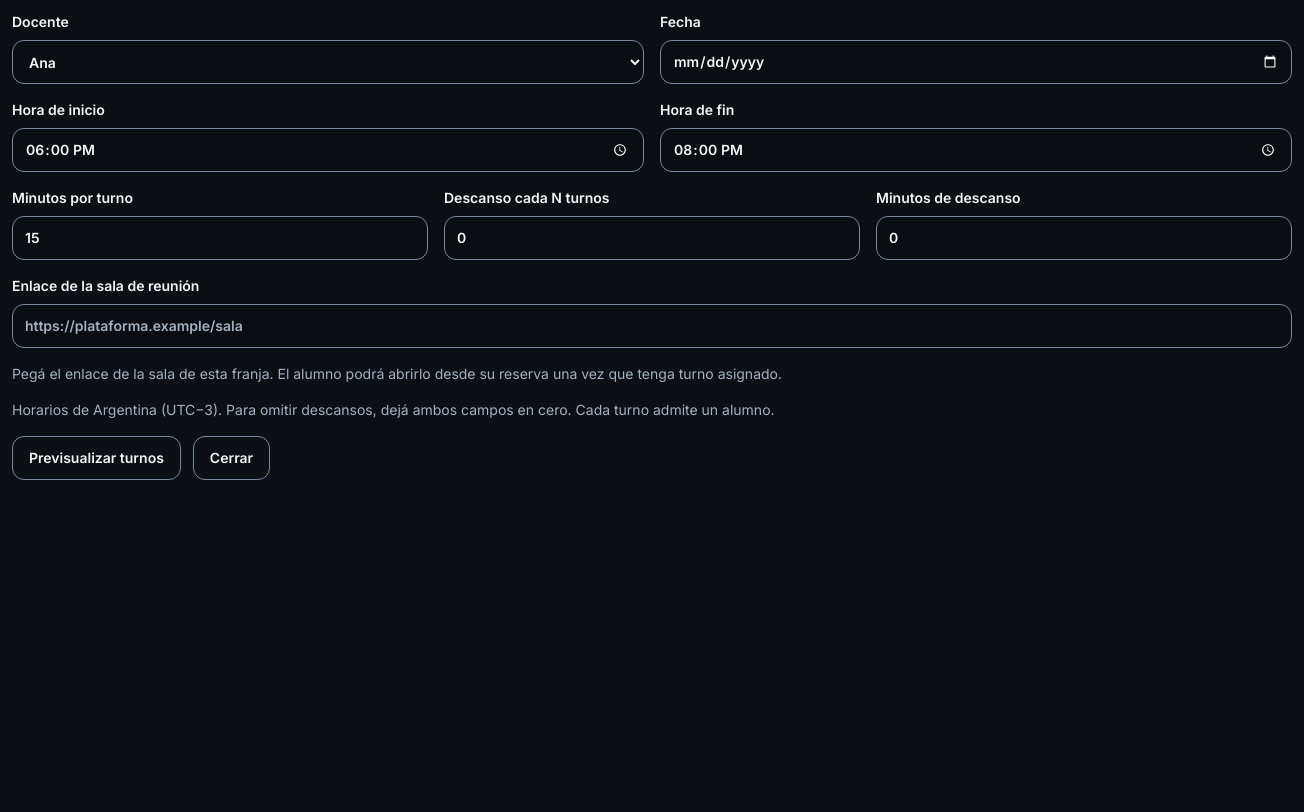
Test: formularios de revisiones › previsualiza descansos sin crear ni asignar alumnos y exige confirmar
The width and height of the screenshot is (1304, 812).
Type "2026-10-20" into the date field labelled "Fecha" at (976, 62), box [660,40,1292,84]
Replace the text in the time field labelled "Hora de fin" with "19:00" at (976, 150), box [660,128,1292,172]
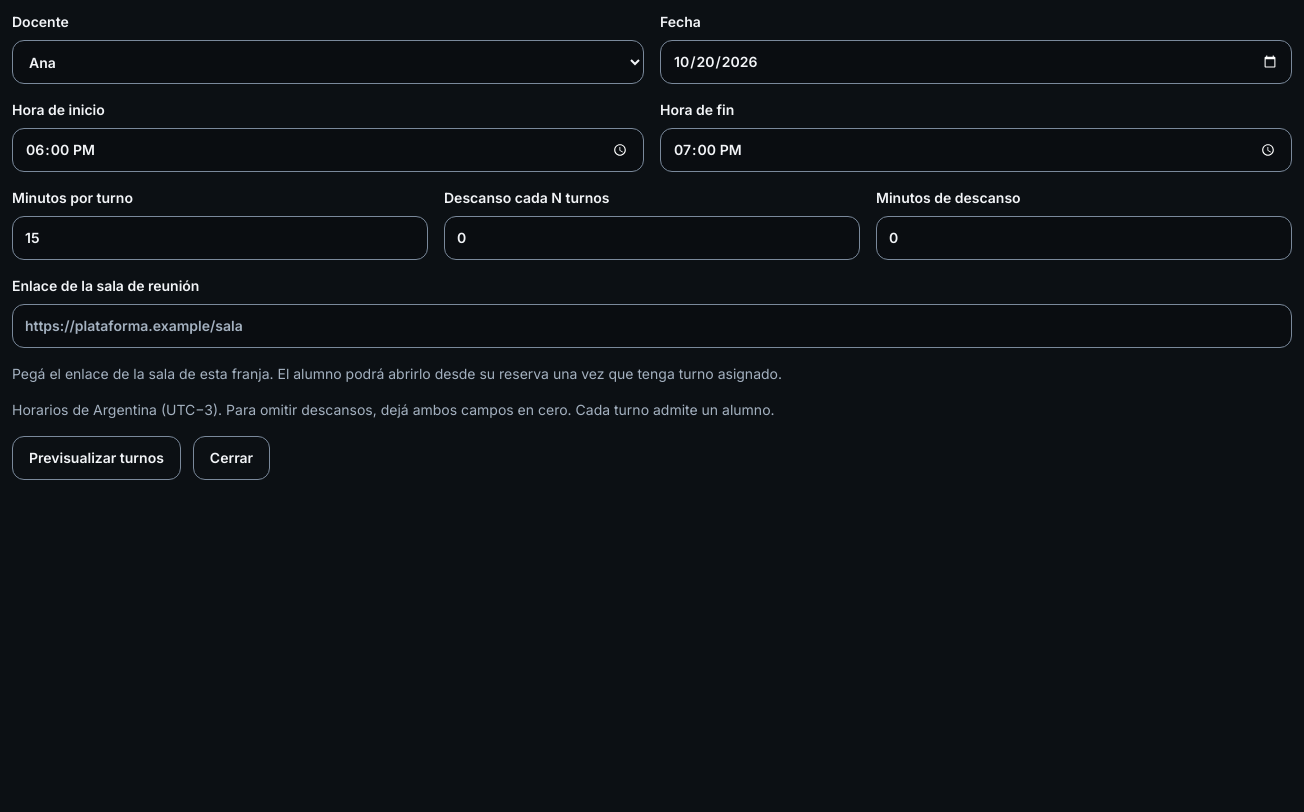
Replace the text in the number field labelled "Descanso cada N turnos" with "2" at (652, 238), box [444,216,860,260]
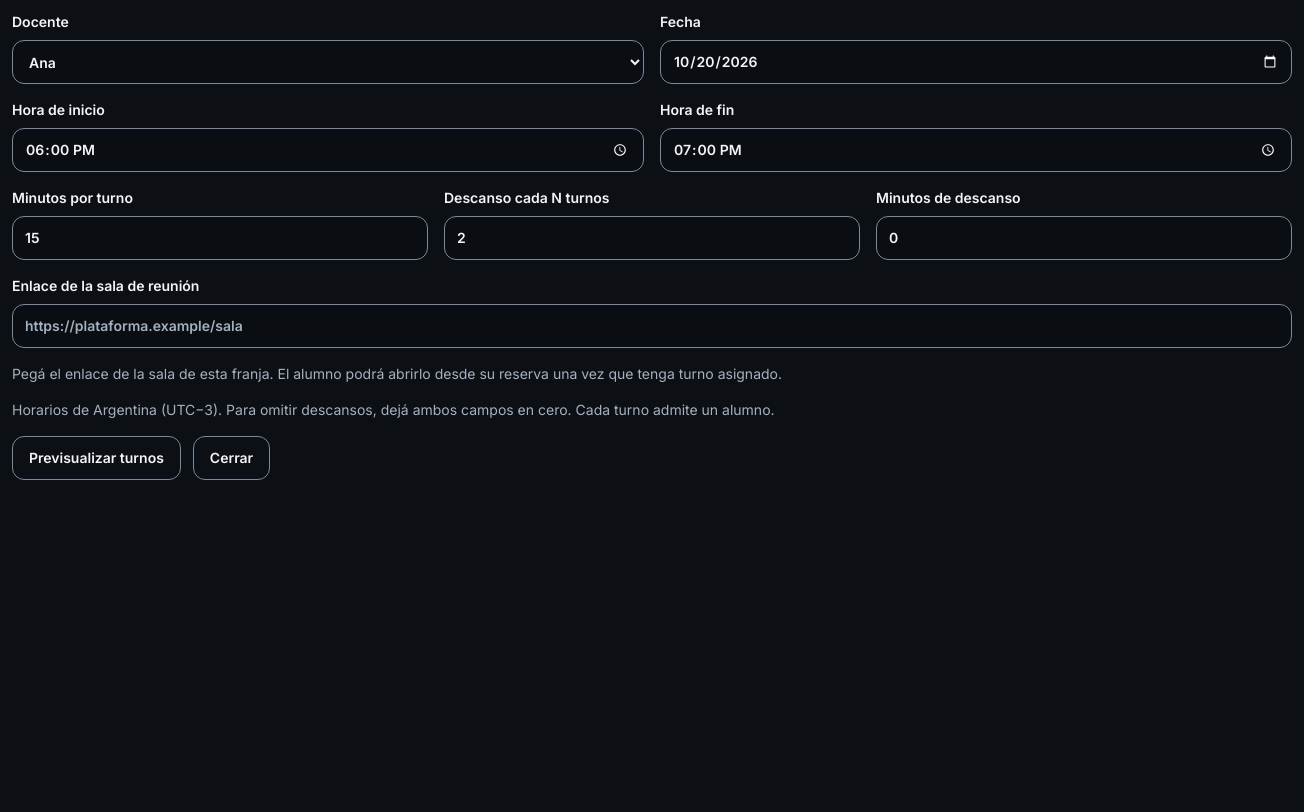
Replace the text in the number field labelled "Minutos de descanso" with "10" at (1084, 238), box [876,216,1292,260]
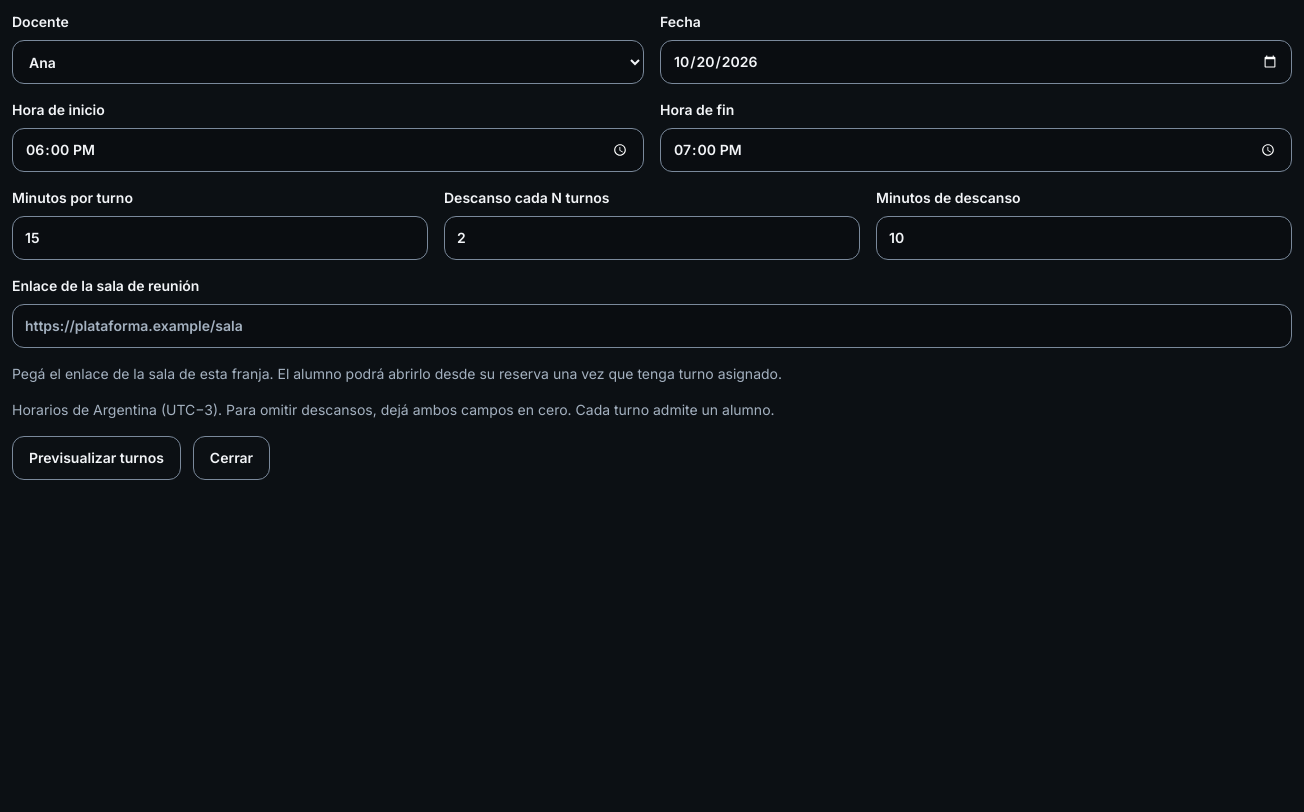
Type "https://meet.google.com/abc-defg-hij" into the field labelled "Enlace de la sala de reunión" at (652, 326), box [12,304,1292,348]
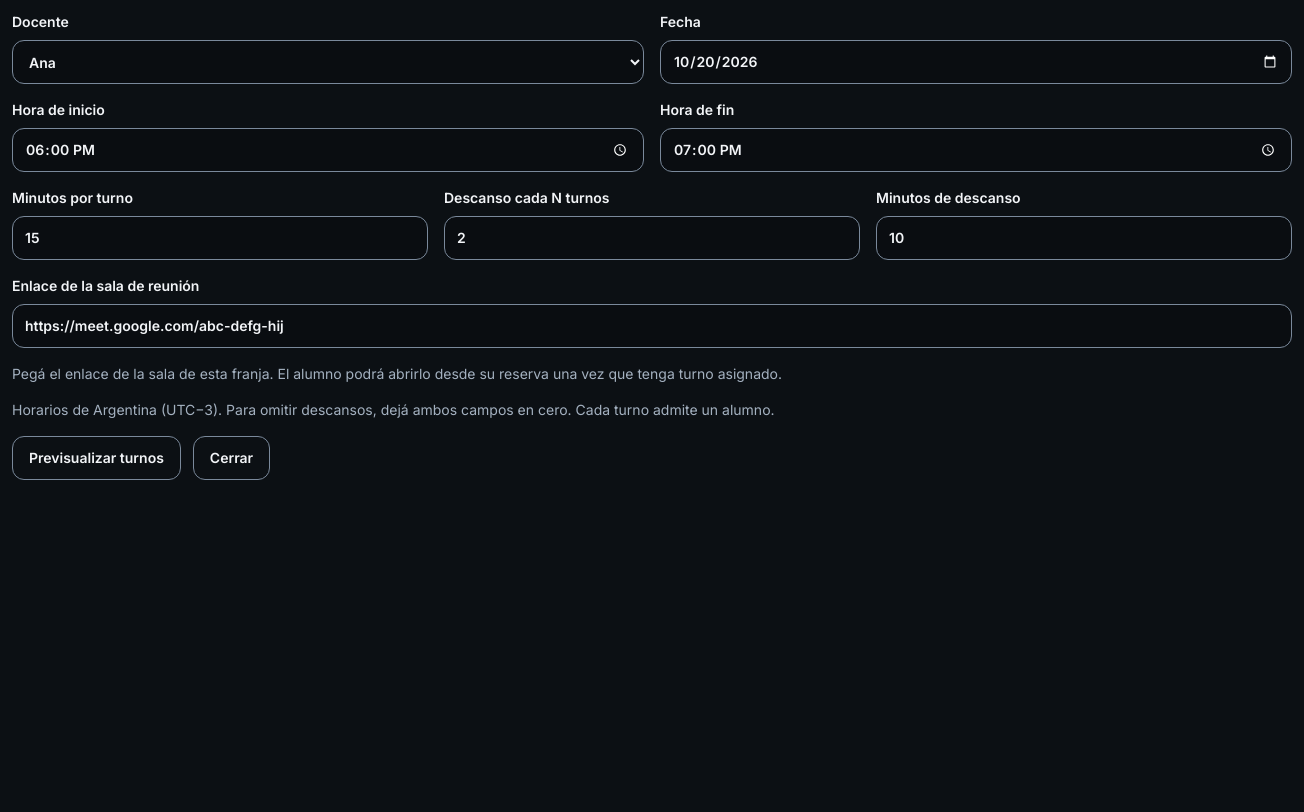
Click the button "Previsualizar turnos" at (96, 458), box [12,436,181,480]
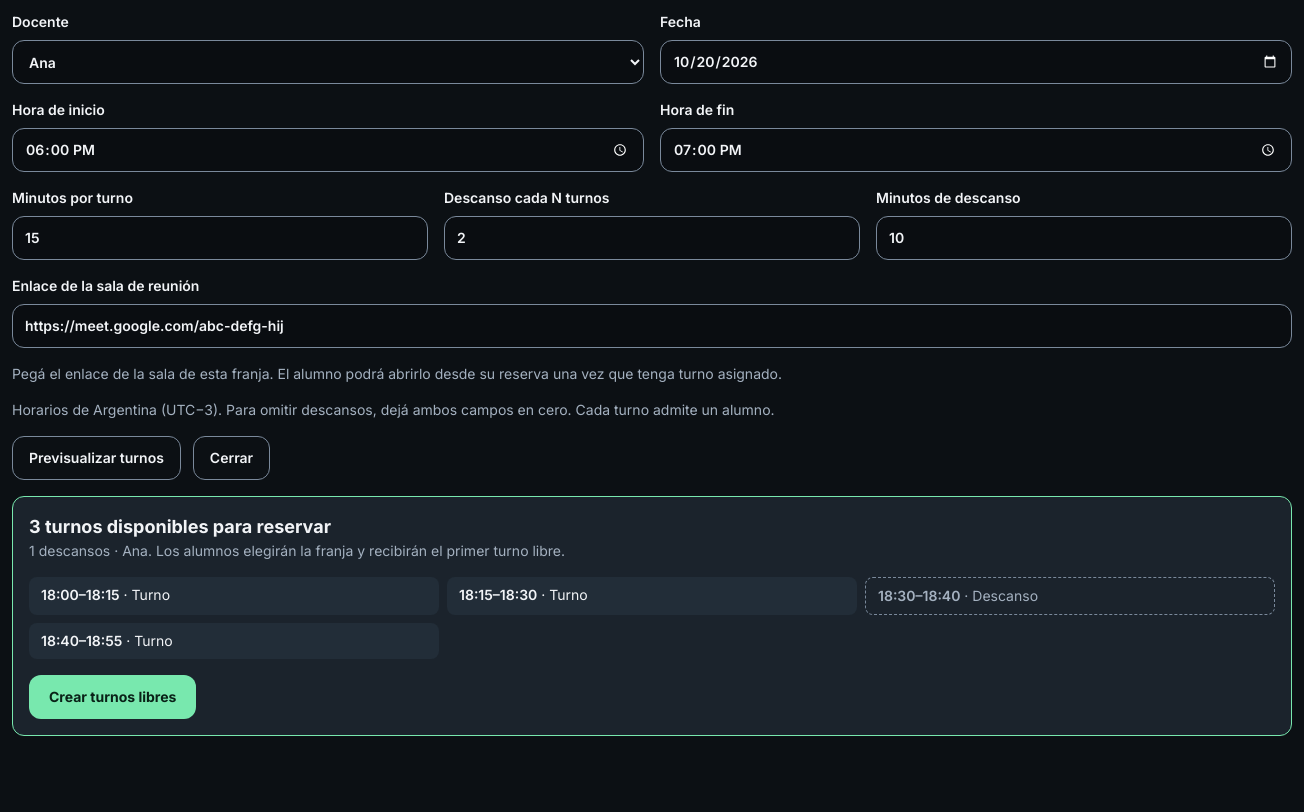
Check: the text "3 turnos disponibles para reservar" is shown, box [29,516,331,537]
Check: the text "18:30–18:40" is shown, box [878,587,960,604]
Click the button "Crear turnos libres" at (113, 697), box [29,675,196,719]
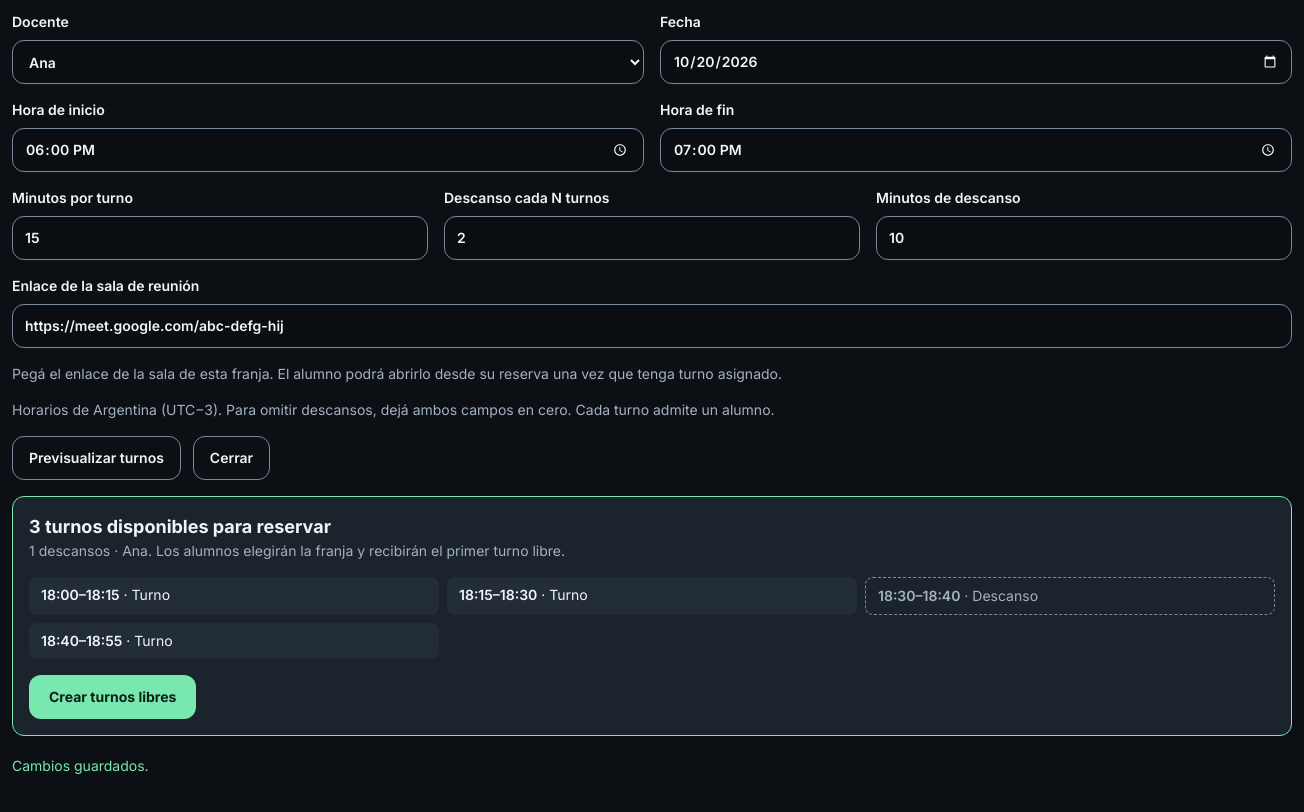
Check: the text "Cambios guardados." is shown, box [12,757,149,774]
